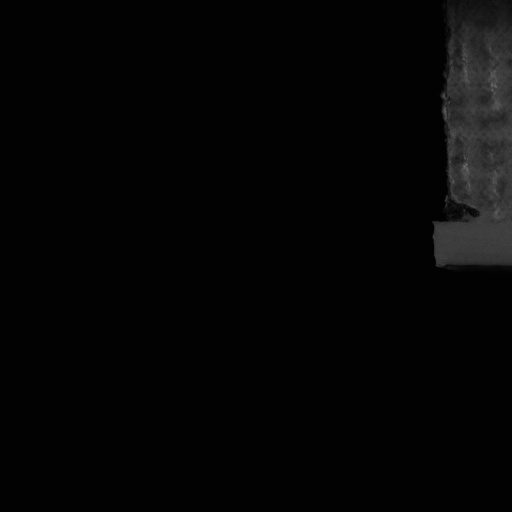bengque: (434, 193, 482, 229)
